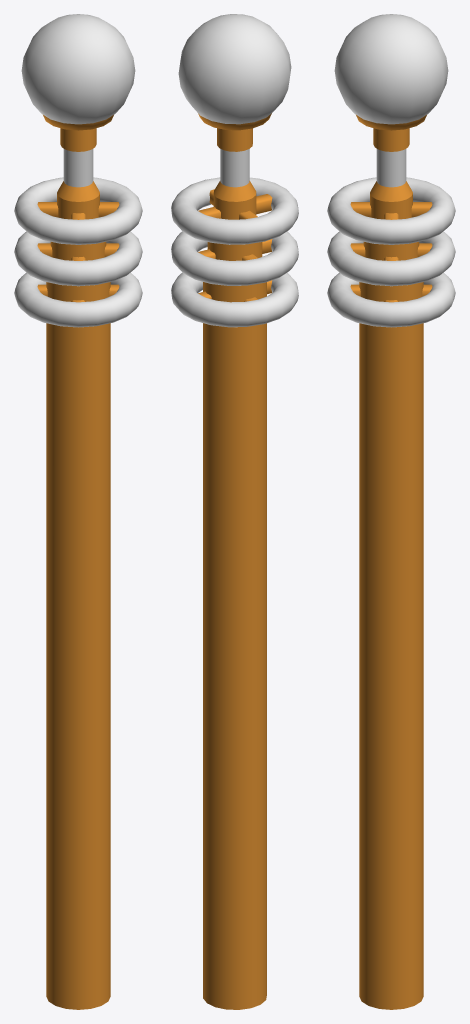
The model's file is TeslaTower.fbx.
3 renders of one model, left to right at view 1: azimuth 90°, elevation 25°; view 2: azimuth 210°, elevation 25°; view 3: azimuth 270°, elevation 25°, orthographic.
Parts seen in each view (by area): view 1: Tesla; view 2: Tesla; view 3: Tesla.
Boxes of the visible parts, x1,y1,x2,y2 form: Tesla: (14,14,142,1009); Tesla: (171,14,298,1009); Tesla: (327,14,455,1009).
Bounding box in the file's own units: 226 × 1896 × 226.
